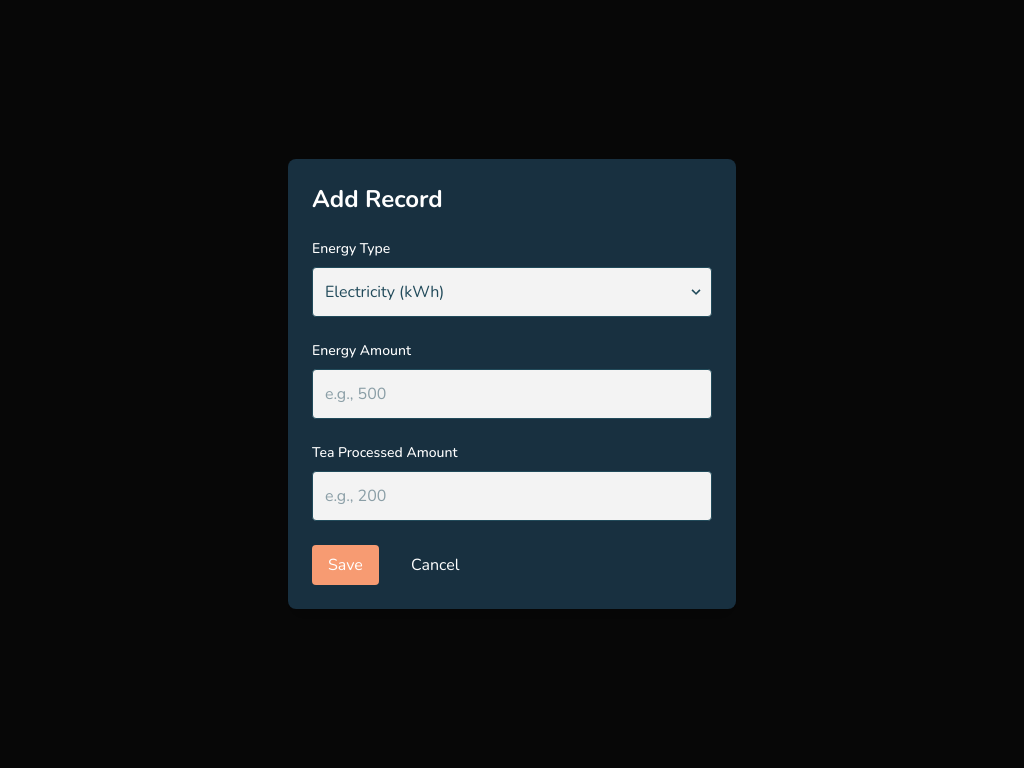
Scenario: ModalForm Component › shows error if factory ID is missing on submit
Type "200" into the number field with placeholder "e.g., 500" at [512, 394], box left=312, top=369, right=712, bottom=419
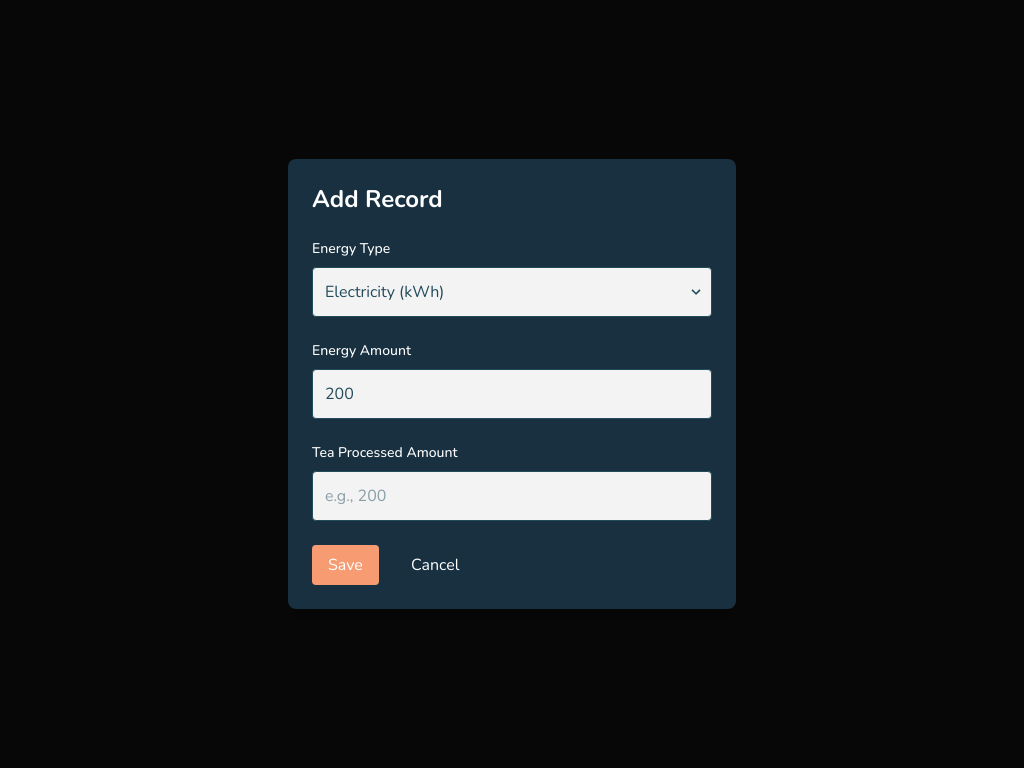
Type "150" into the number field with placeholder "e.g., 200" at [512, 496], box left=312, top=471, right=712, bottom=521
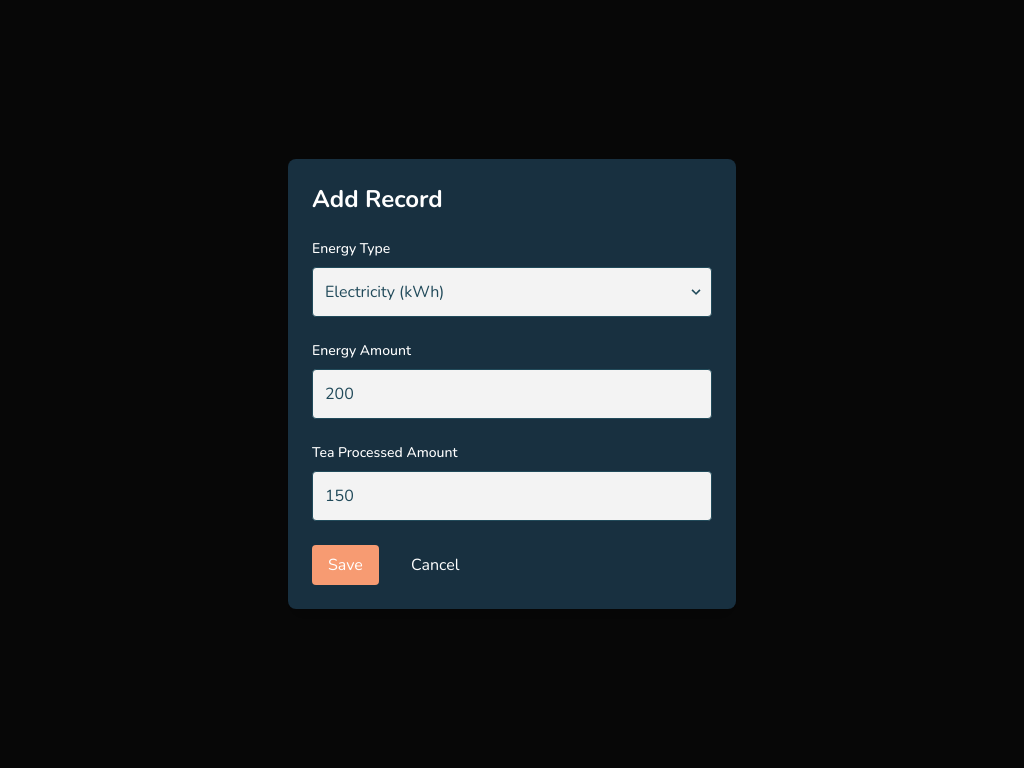
Click the button "Save" at [345, 565], box left=312, top=545, right=379, bottom=585
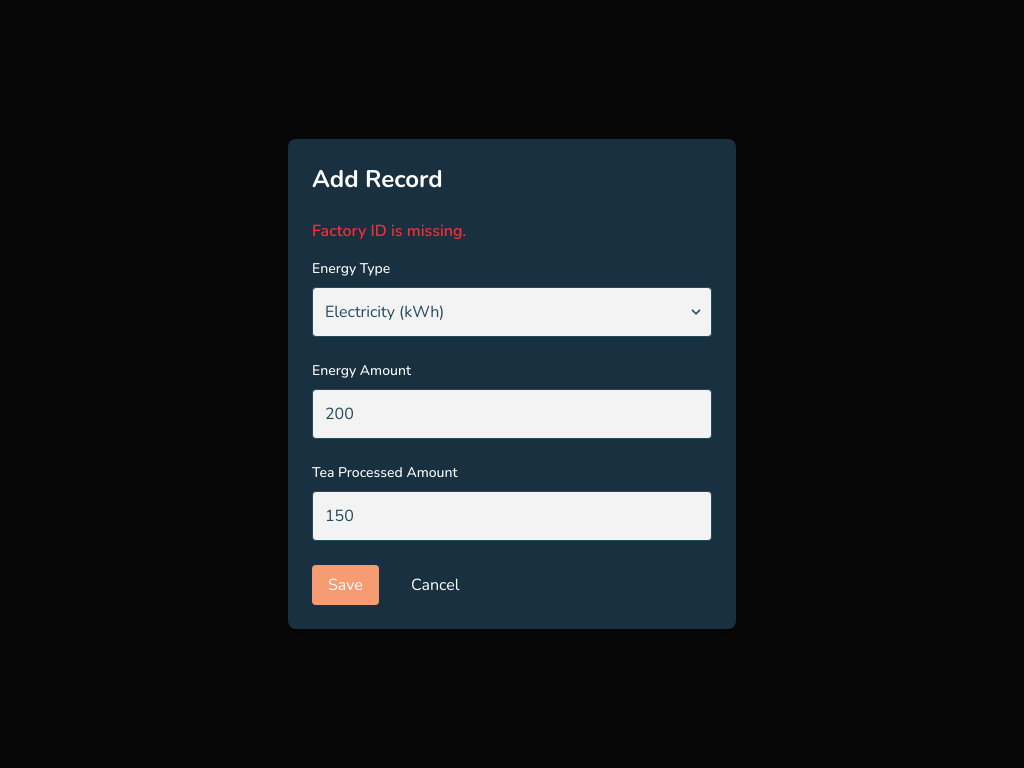
Check: the text "Factory ID is missing." is shown, box left=312, top=220, right=466, bottom=242
